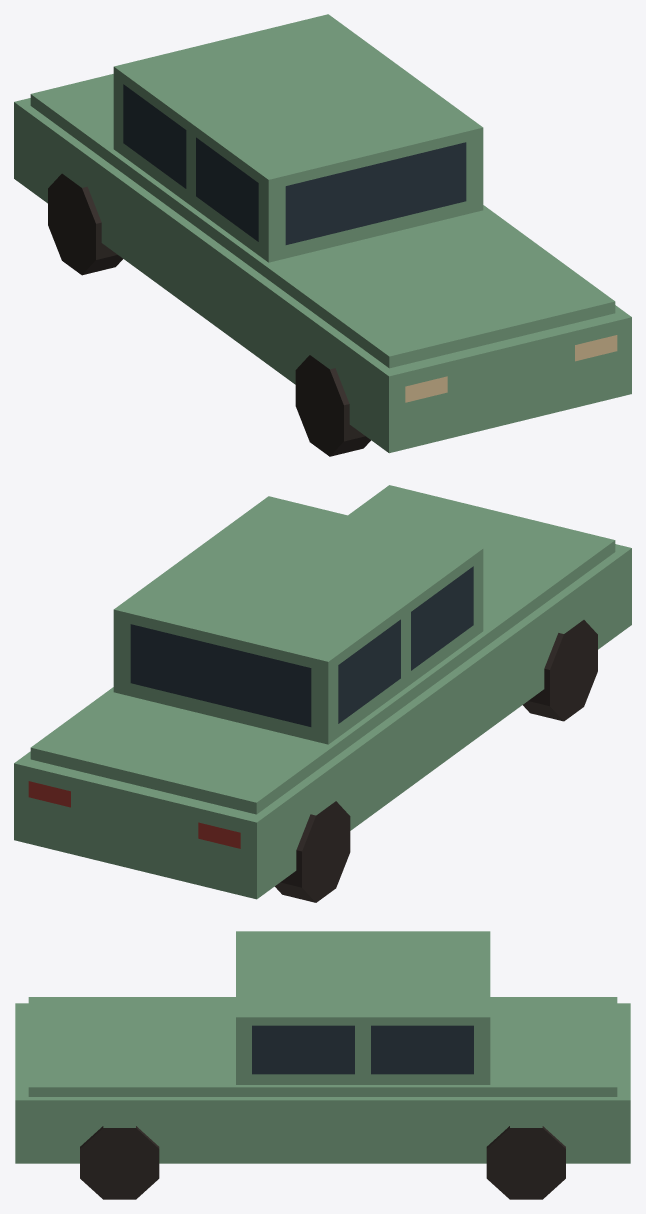
Rendered from sedan.glb.
3 renders of one model, top to bottom at view 1: azimuth 30°, elevation 25°; view 2: azimuth 150°, elevation 25°; view 3: azimuth 270°, elevation 25°, orthographic. The views are drawn at different scales.
Size of the model in its own units: 1.8 by 1.44 by 4.62.
